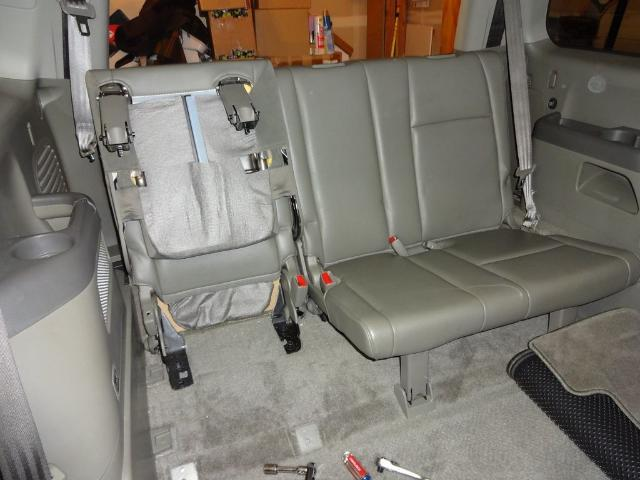Seatbelt: (501, 1, 543, 222), (50, 0, 101, 166)
